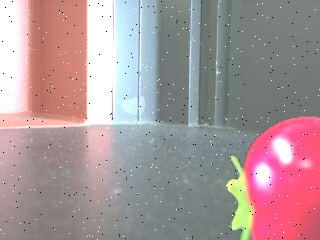Tomato: (226, 117, 320, 240)
